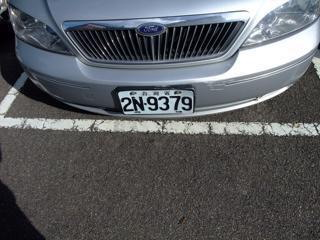plate: (116, 88, 195, 116)
